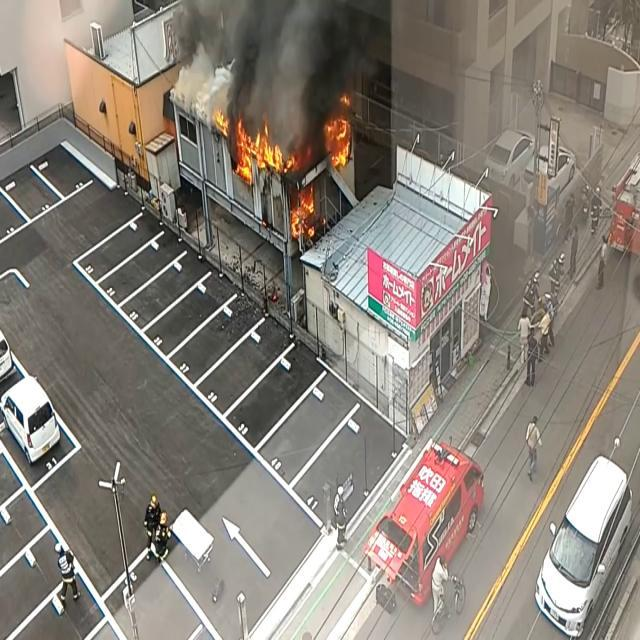Fire: (232, 117, 294, 183), (322, 94, 358, 172), (290, 179, 318, 244)
Smoke: (188, 0, 390, 136)
